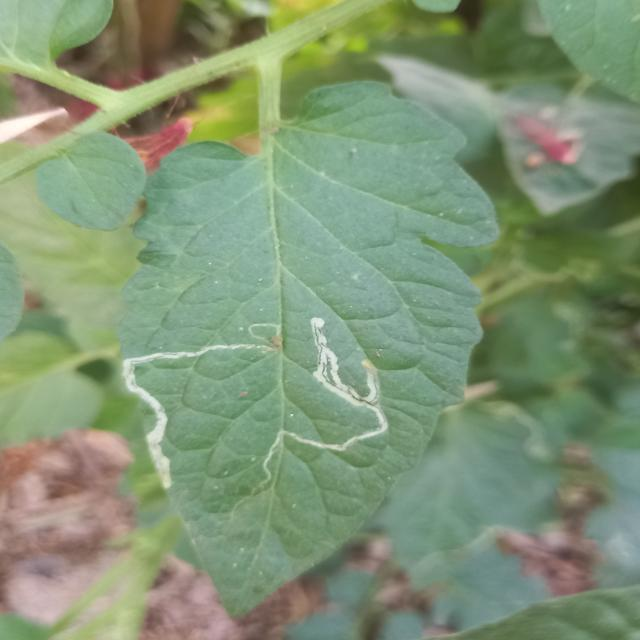Tuta absoluta: (257, 315, 415, 513), (90, 286, 267, 460)
